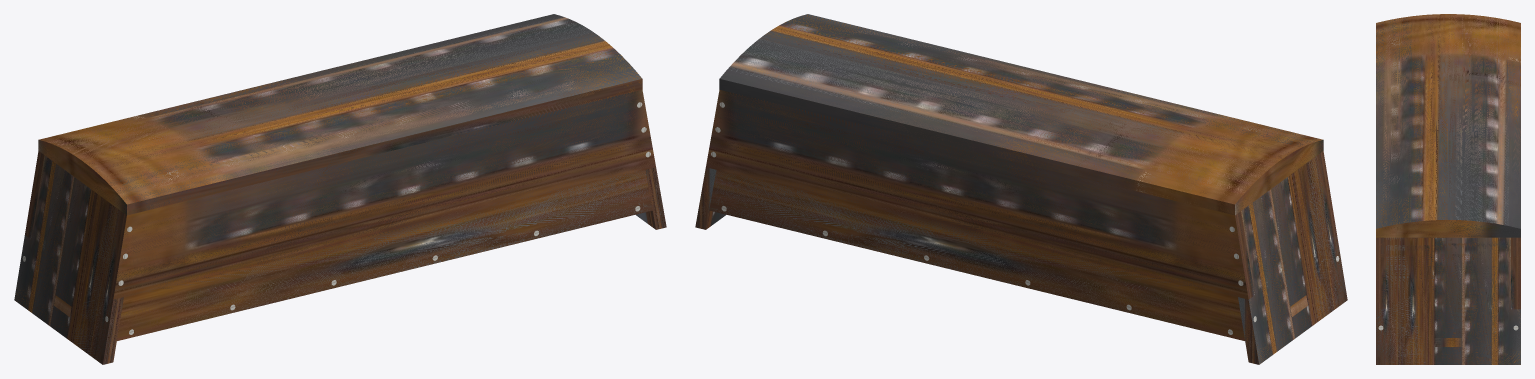
3 renders of one model, left to right at view 1: azimuth 30°, elevation 25°; view 2: azimuth 150°, elevation 25°; view 3: azimuth 270°, elevation 25°, orthographic. The views are drawn at different scales.
Parts seen in each view (by area): view 1: mesh9_mesh9-geometry, mesh12_mesh12-geometry, mesh7_mesh7-geometry, mesh8_mesh8-geometry, mesh10_mesh10-geometry; view 2: mesh10_mesh10-geometry, mesh12_mesh12-geometry, mesh7_mesh7-geometry, mesh8_mesh8-geometry, mesh9_mesh9-geometry; view 3: mesh12_mesh12-geometry, mesh8_mesh8-geometry, mesh9_mesh9-geometry, mesh10_mesh10-geometry, mesh11_mesh11-geometry.
Boxes of the visible parts, box(x1,y1,x2,y2) form: mesh9_mesh9-geometry: box(107, 89, 655, 340); mesh12_mesh12-geometry: box(38, 14, 642, 215); mesh7_mesh7-geometry: box(14, 155, 123, 364); mesh8_mesh8-geometry: box(635, 167, 666, 229); mesh10_mesh10-geometry: box(25, 151, 44, 238); mesh10_mesh10-geometry: box(706, 89, 1254, 340); mesh12_mesh12-geometry: box(719, 14, 1323, 215); mesh7_mesh7-geometry: box(1238, 155, 1347, 364); mesh8_mesh8-geometry: box(695, 167, 726, 229); mesh9_mesh9-geometry: box(1317, 151, 1336, 238); mesh12_mesh12-geometry: box(1376, 14, 1520, 237); mesh8_mesh8-geometry: box(1376, 237, 1520, 364); mesh9_mesh9-geometry: box(1376, 237, 1385, 309); mesh10_mesh10-geometry: box(1511, 237, 1520, 309); mesh11_mesh11-geometry: box(1435, 338, 1461, 346).
Bounding box in the file's own units: 0.9315 × 0.2612 × 0.2532.
